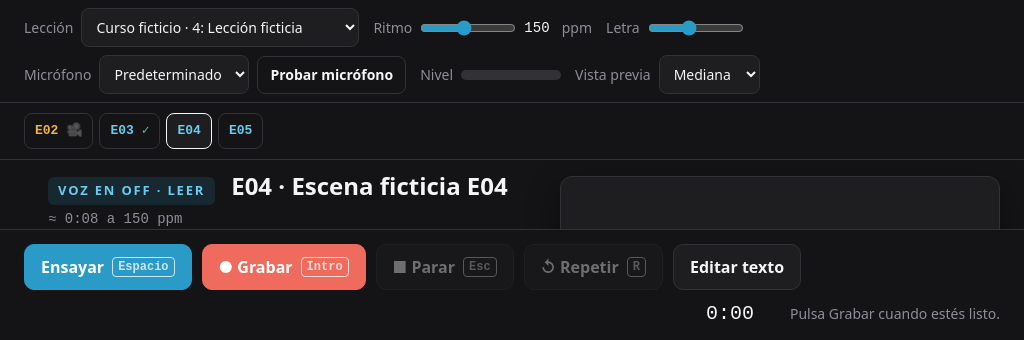
Scenario: Teleprompter › si se deniega el micrófono lo dice y los botones vuelven a su estado
Click the button "● Grabar Intro". click: (284, 266)
box: [202,244,366,290]
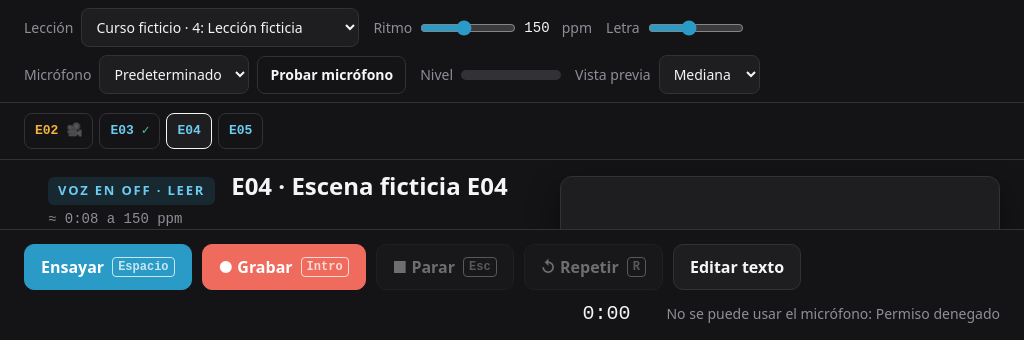
Expected: the button "Ensayar Espacio" is enabled, [24,244,192,290]
Expected: the text "No se puede usar el micrófono: Permiso denegado" is shown, [666,304,1000,324]
